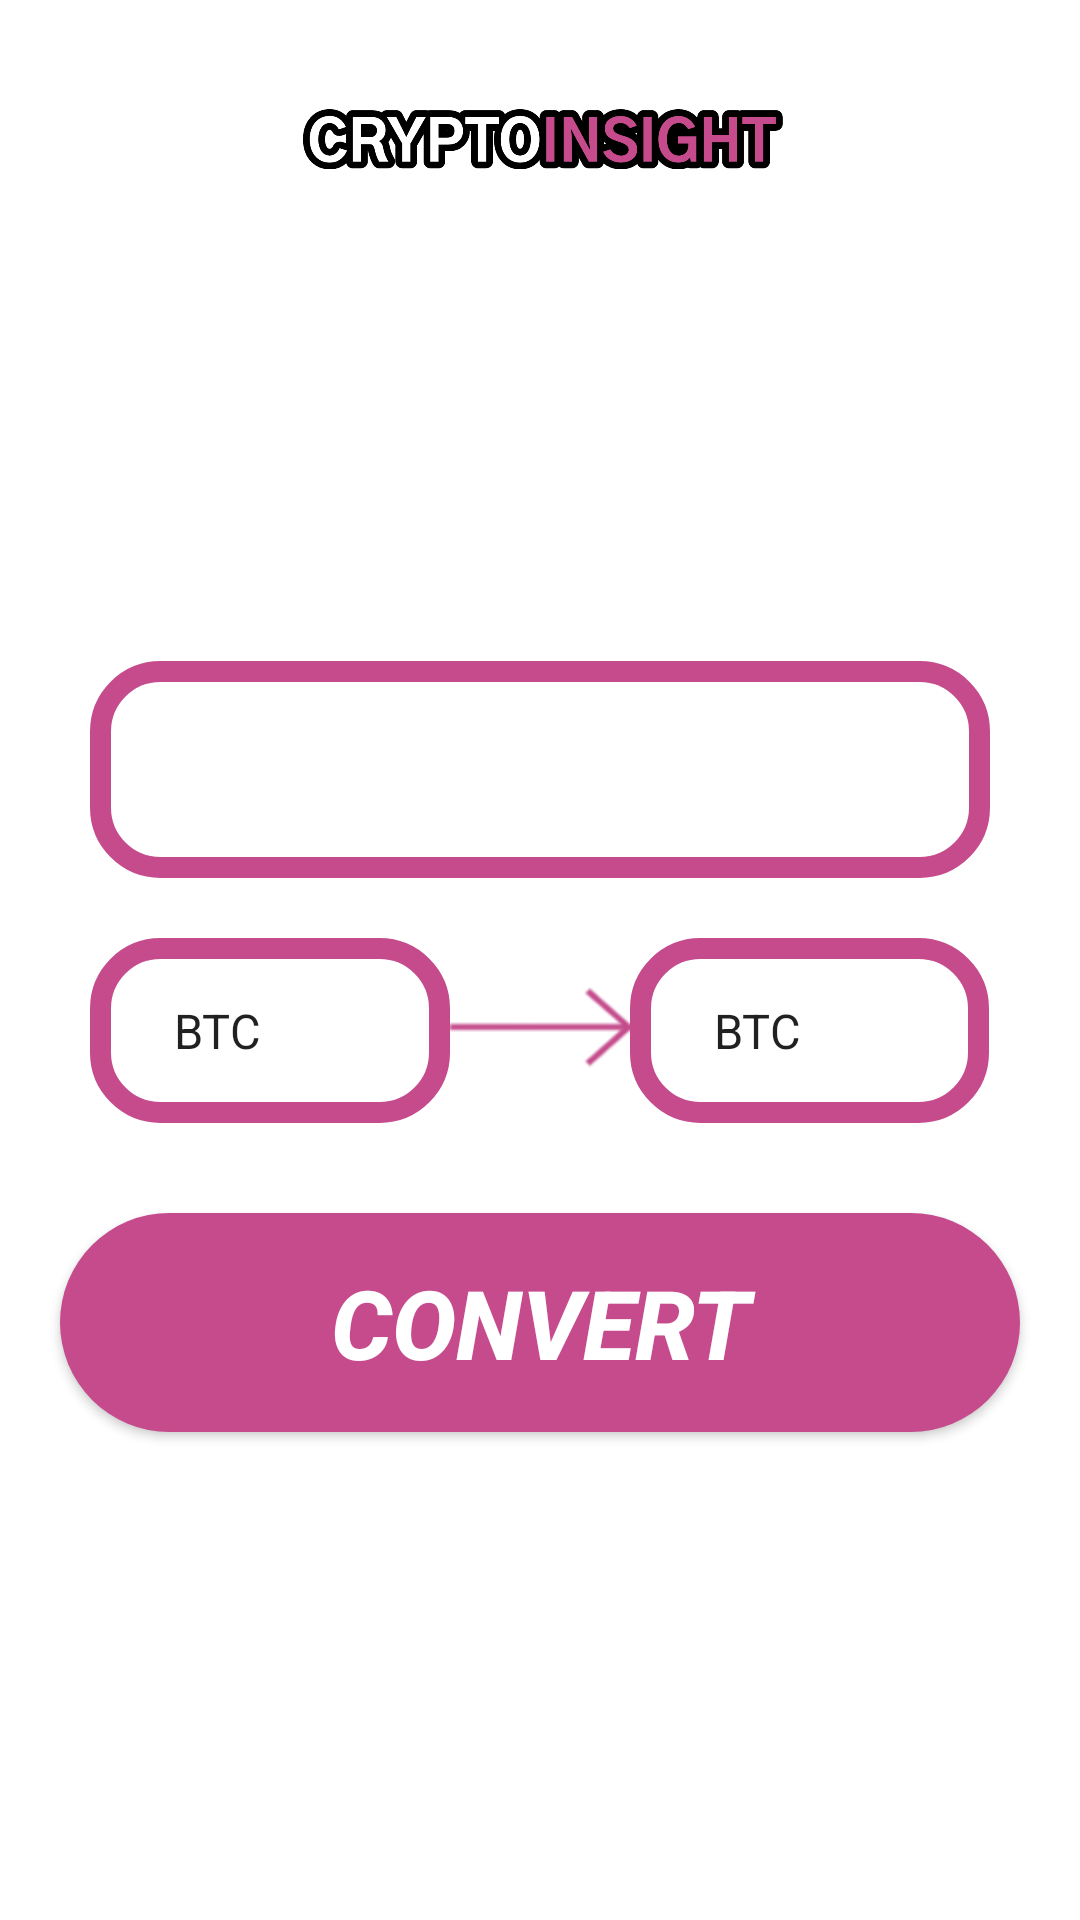

Named icons in this screenshot (1080w x 1920h) and their centers, point (x, y):
arrow: point (540, 1027)
